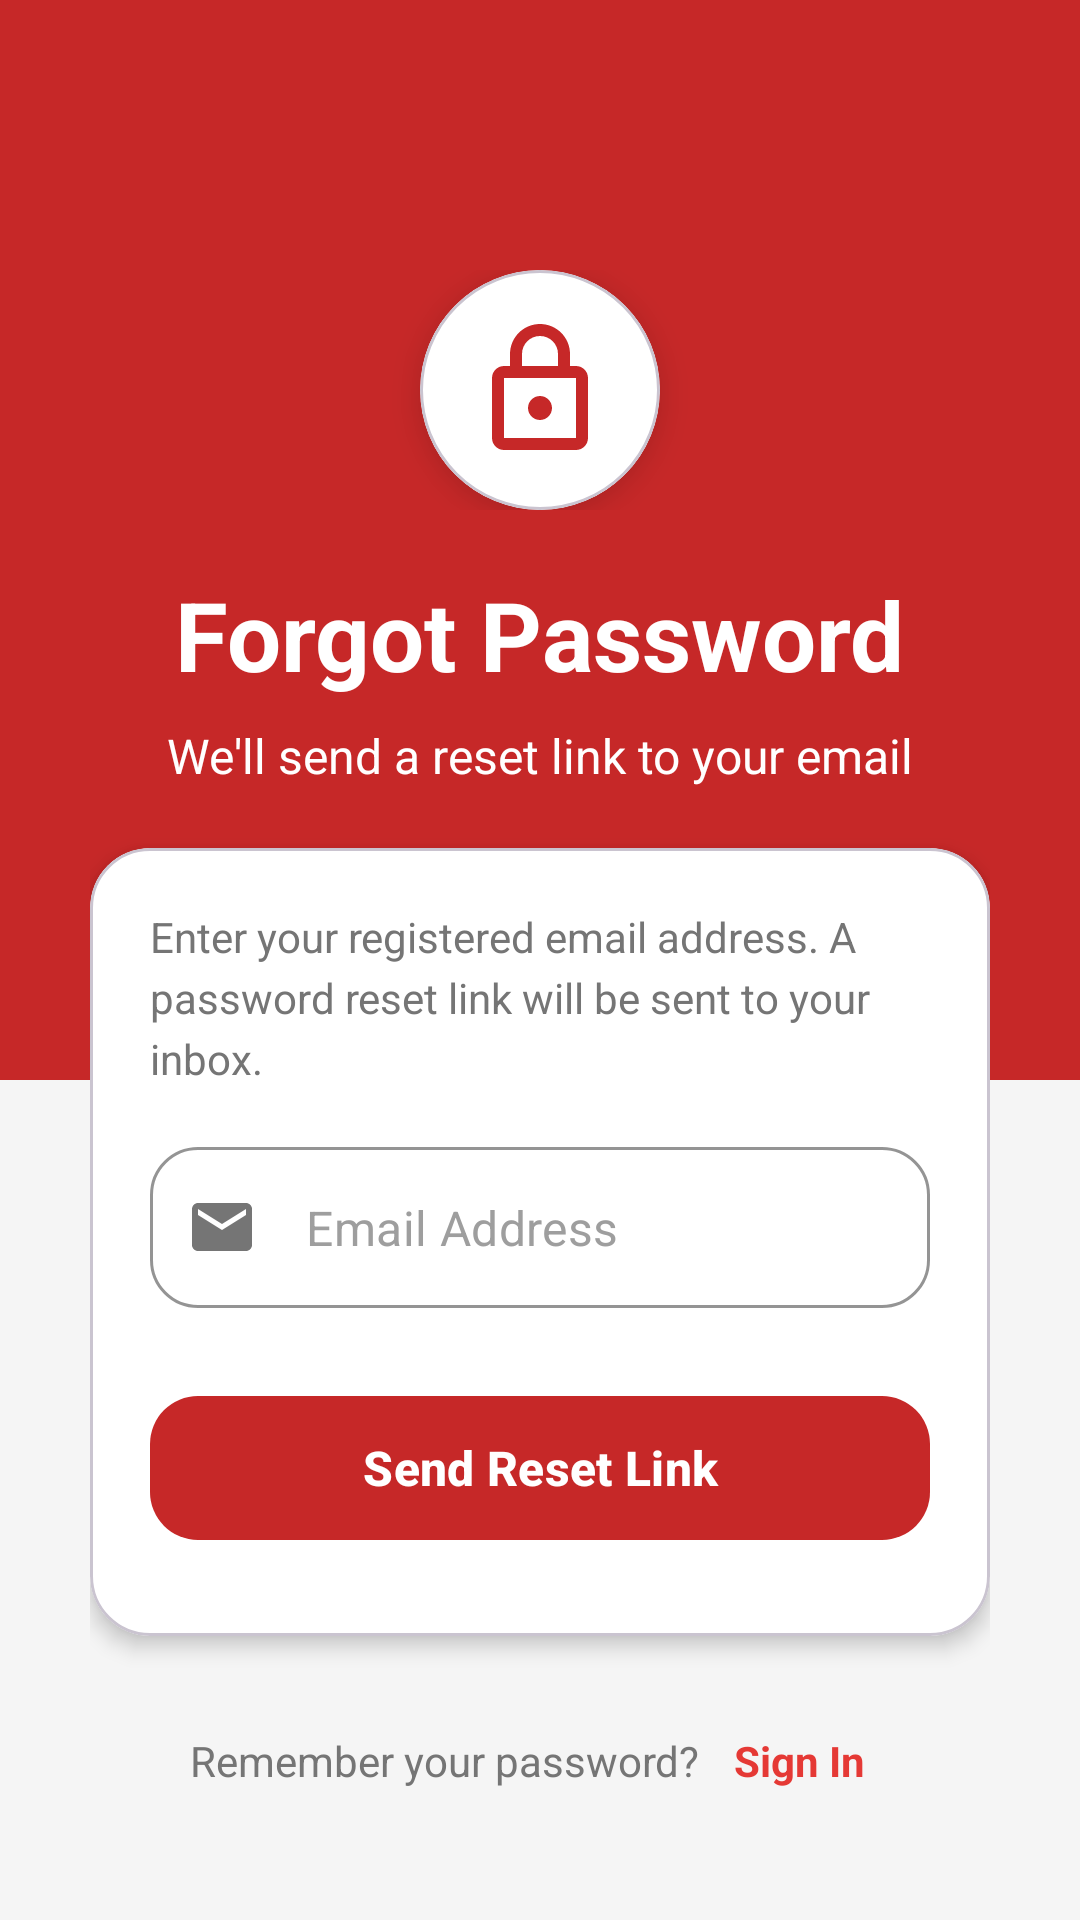

Where to tap for icons on this 1080x1920 app screen, as (x,y):
lock: (540,390)
